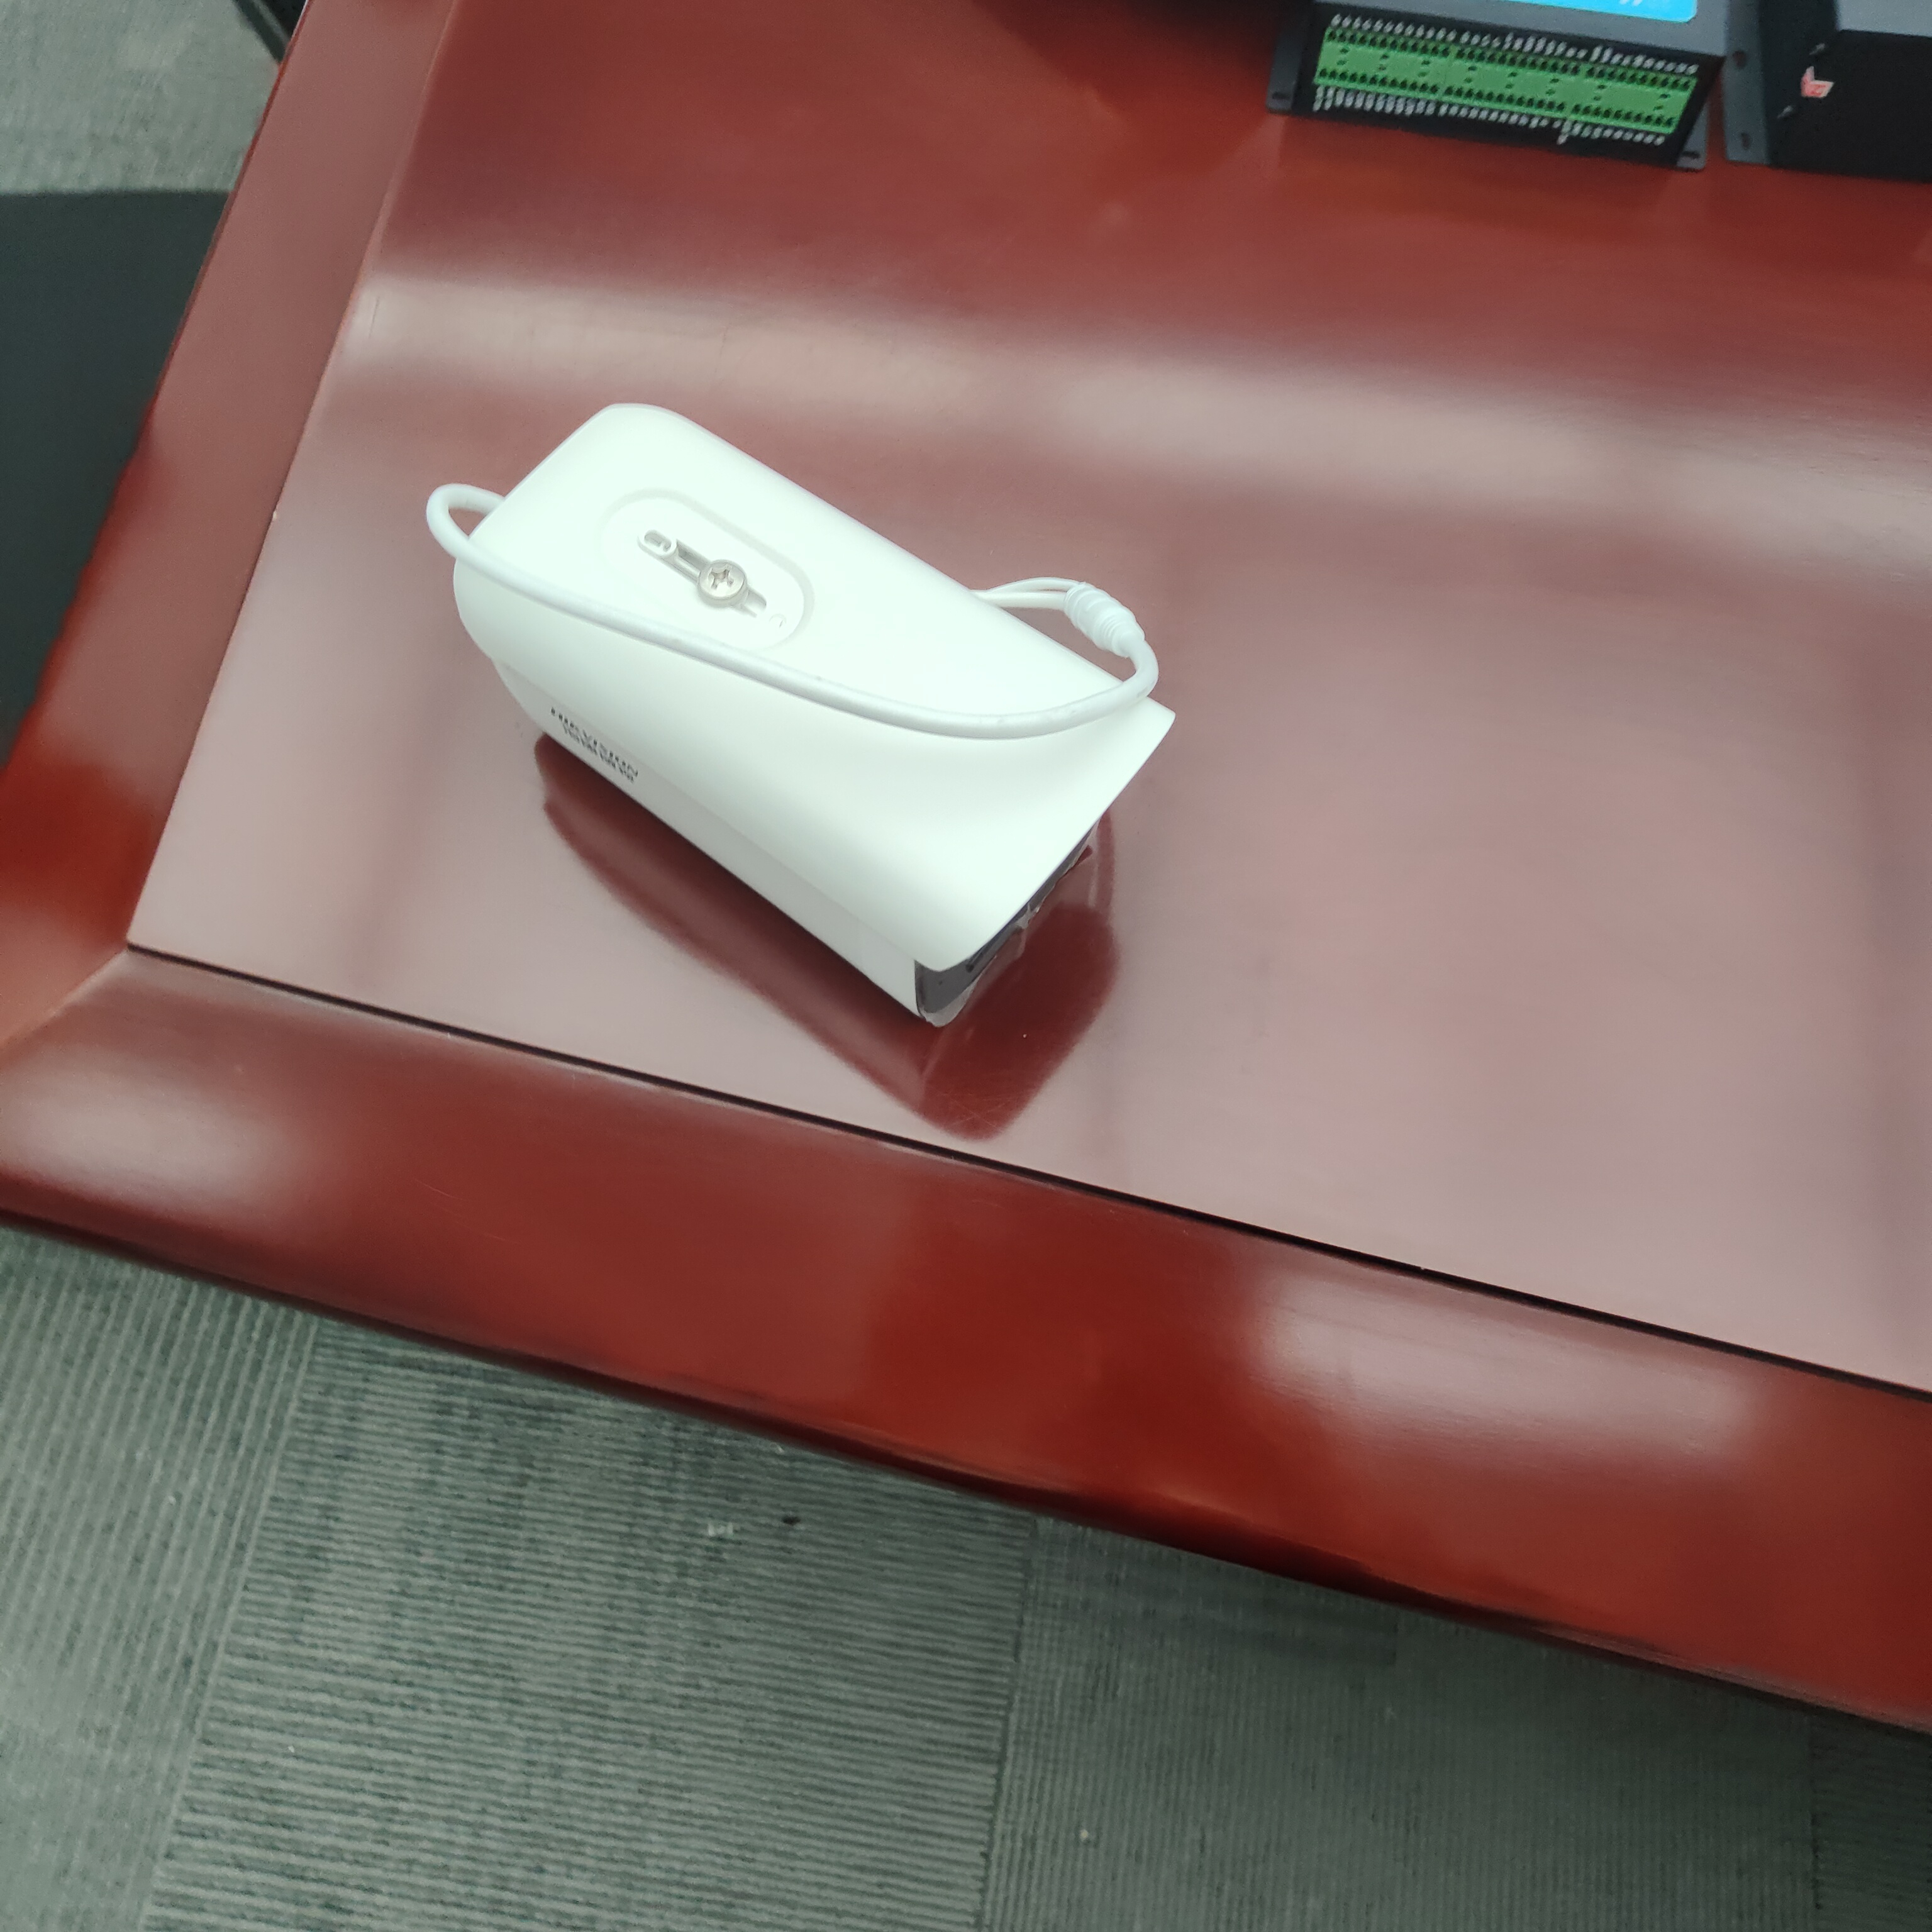hkws: (398, 396, 1207, 1053)
